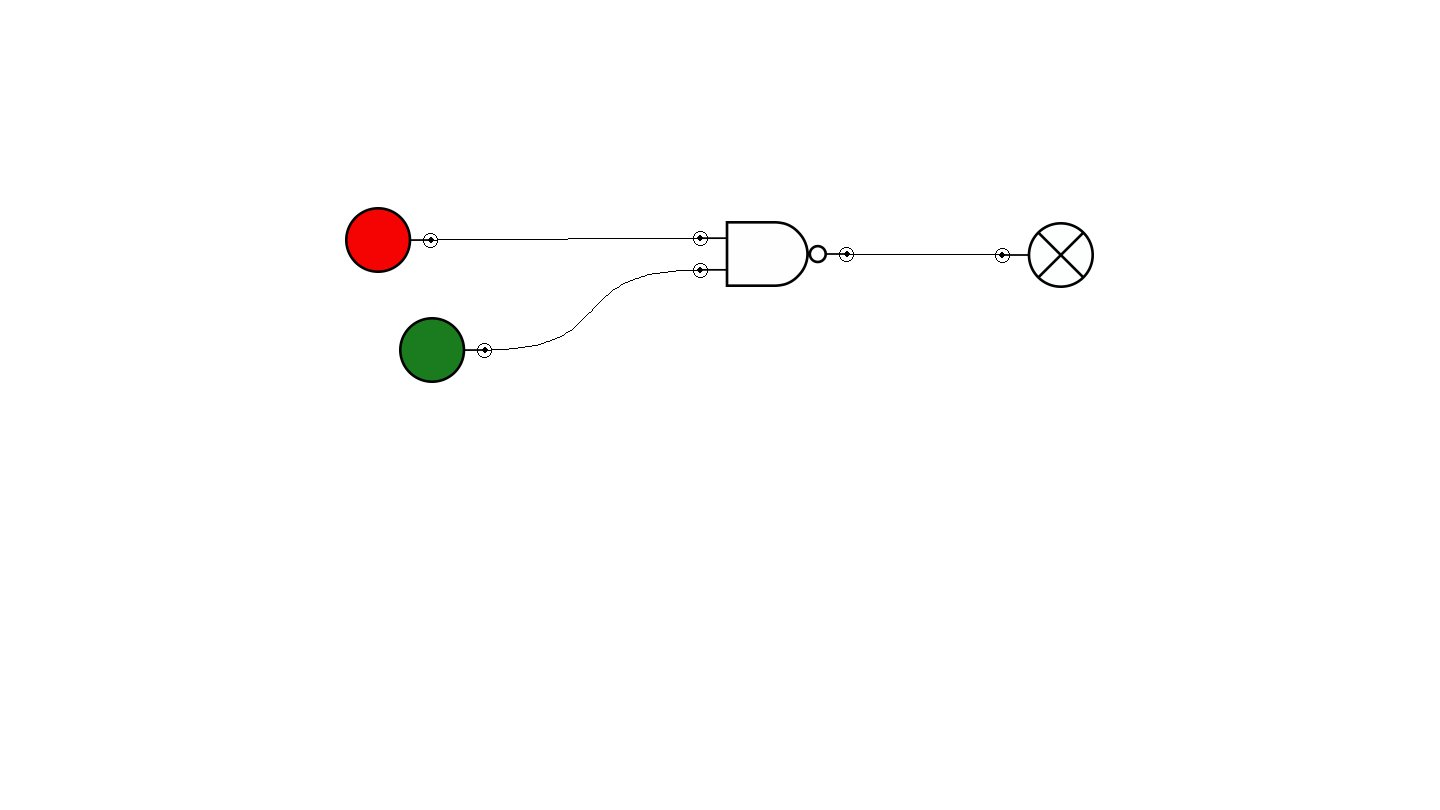bulb: (995, 222, 1094, 288)
nand: (693, 221, 854, 287)
switch_False: (345, 207, 438, 273)
switch_True: (399, 317, 492, 383)
